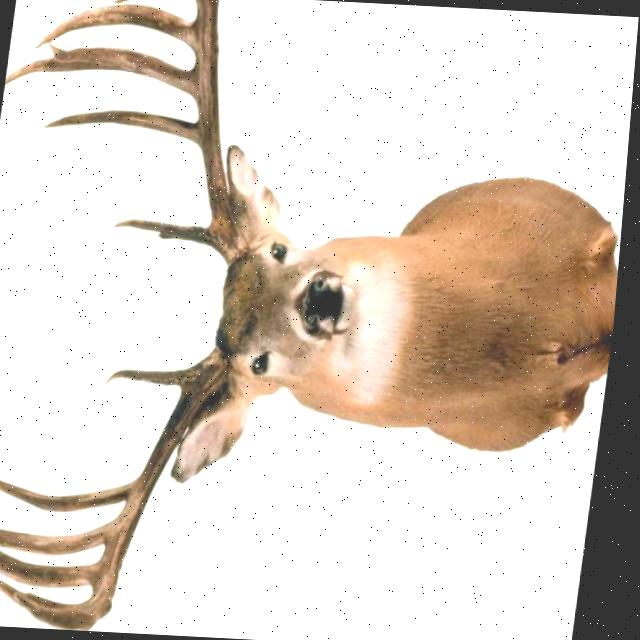E1: (50, 41, 70, 56)
L-F: (23, 350, 233, 630)
L-G1: (111, 366, 198, 389)
L-G2: (0, 476, 142, 512)
L-G4: (0, 543, 109, 588)
R-F: (198, 0, 253, 262)
R-G1: (116, 217, 222, 253)
R-G2: (45, 108, 204, 144)
R-G3: (6, 47, 198, 98)
R-G4: (36, 3, 199, 50)
